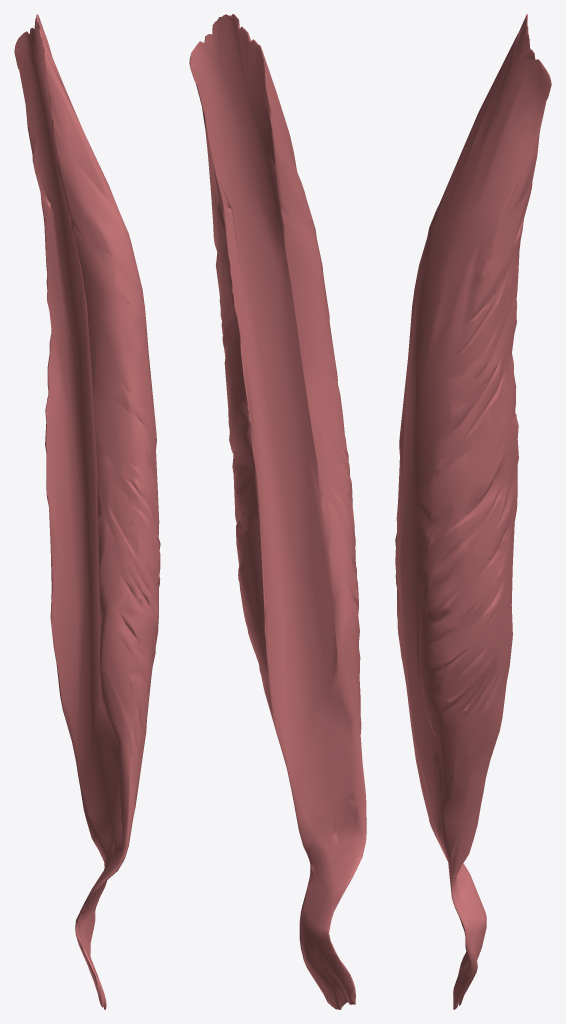
3 renders of one model, left to right at view 1: azimuth 90°, elevation 25°; view 2: azimuth 150°, elevation 25°; view 3: azimuth 270°, elevation 25°, orthographic. The views are drawn at different scales.
Parts seen in each view (by area): view 1: FJ1441M; view 2: FJ1441M; view 3: FJ1441M.
Part boxes in pixels (left/top/right/bottom): FJ1441M: left=14, top=14, right=160, bottom=1009; FJ1441M: left=189, top=14, right=366, bottom=1009; FJ1441M: left=395, top=14, right=551, bottom=1009.
Size of the model in its own units: 0.0566 by 0.425 by 0.0586.
